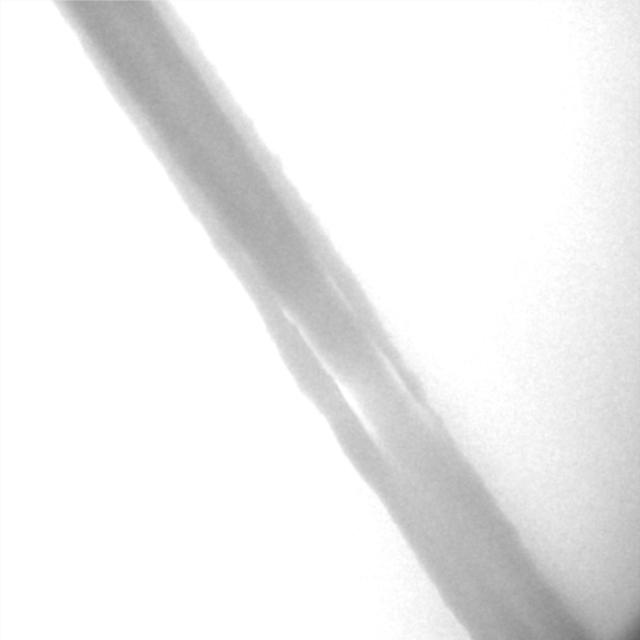unfused: (285, 277, 423, 447)
